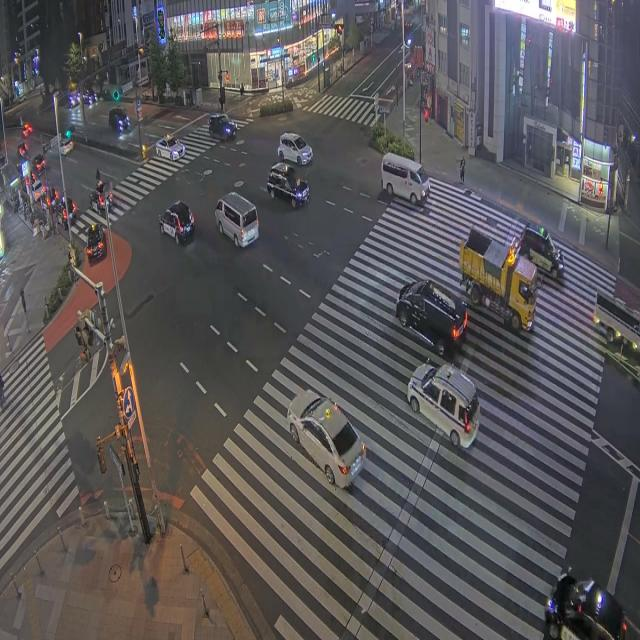car: (287, 391, 366, 487), (407, 362, 480, 448), (545, 568, 626, 639), (396, 280, 467, 356), (519, 224, 563, 282), (267, 163, 309, 207), (159, 201, 194, 244), (278, 133, 312, 165), (209, 112, 237, 140), (86, 224, 106, 262), (156, 136, 185, 160), (52, 199, 76, 228), (90, 181, 112, 212), (109, 108, 129, 132), (32, 181, 46, 201), (32, 154, 45, 174), (60, 137, 74, 155), (47, 186, 60, 205), (82, 89, 97, 105), (69, 91, 80, 107), (22, 123, 32, 137), (18, 143, 27, 158), (404, 21, 413, 31)
truck: (460, 229, 538, 332), (594, 277, 639, 378)
van: (382, 153, 430, 204), (215, 192, 258, 247)
